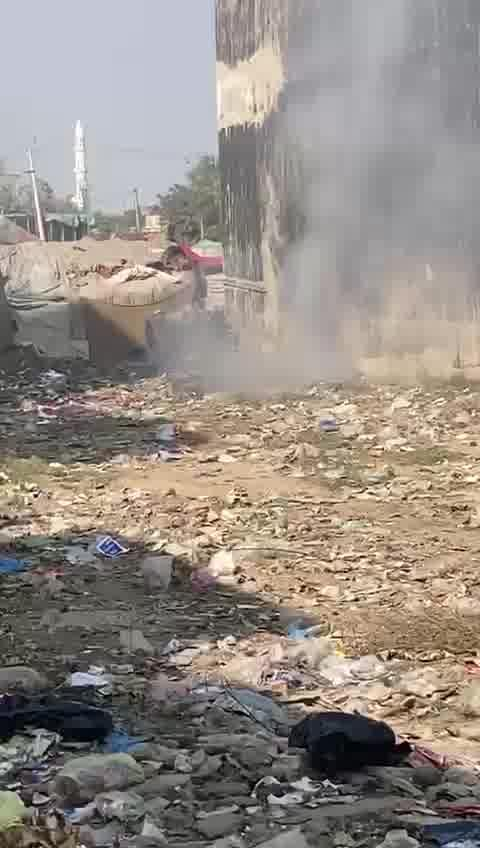garbage: (7, 606, 480, 848), (1, 378, 480, 560)
